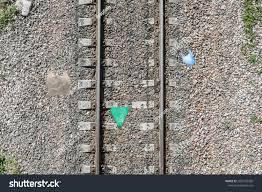Dust_screen: (109, 104, 131, 127)
Plastic: (45, 70, 73, 96), (180, 45, 197, 69)
